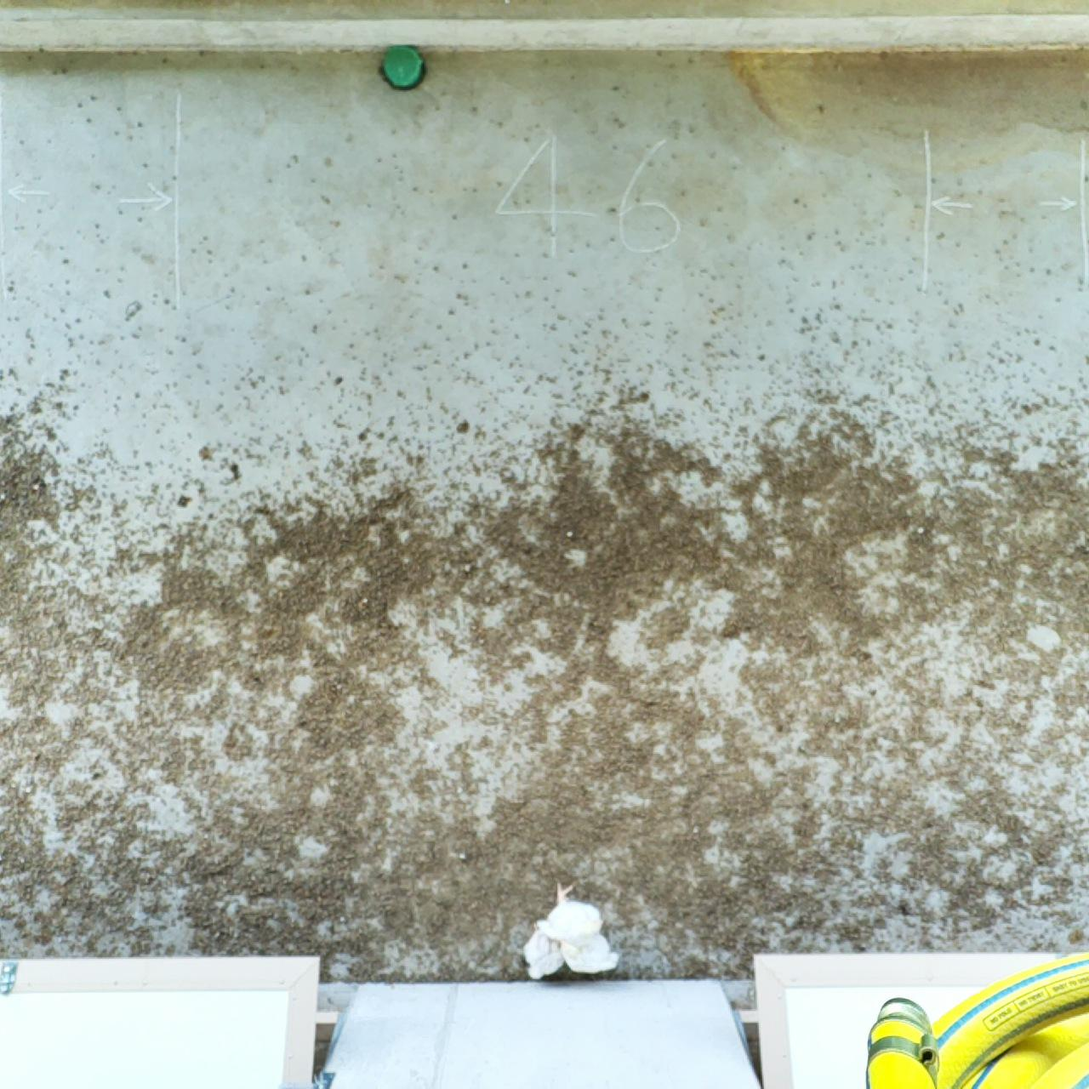chicken: (531, 879, 606, 941), (559, 932, 622, 976), (519, 925, 565, 983)
